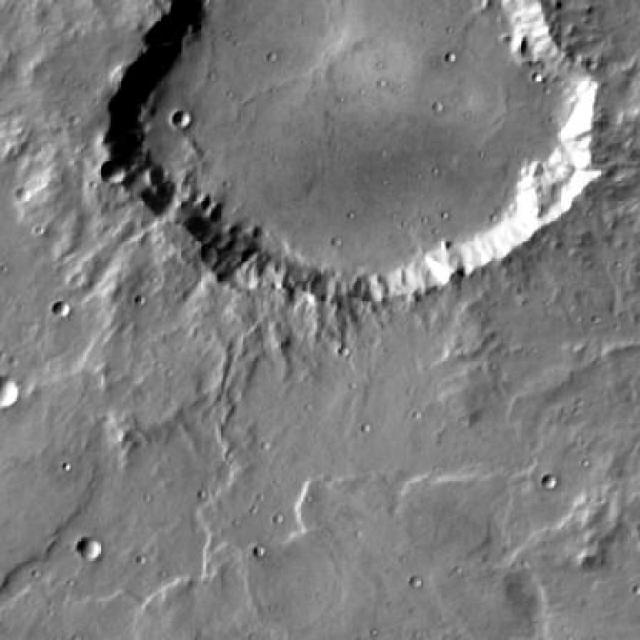crater: (114, 0, 591, 291), (509, 30, 537, 56), (74, 539, 100, 563), (102, 161, 127, 184), (0, 380, 18, 409), (174, 112, 192, 130), (51, 302, 69, 320)
